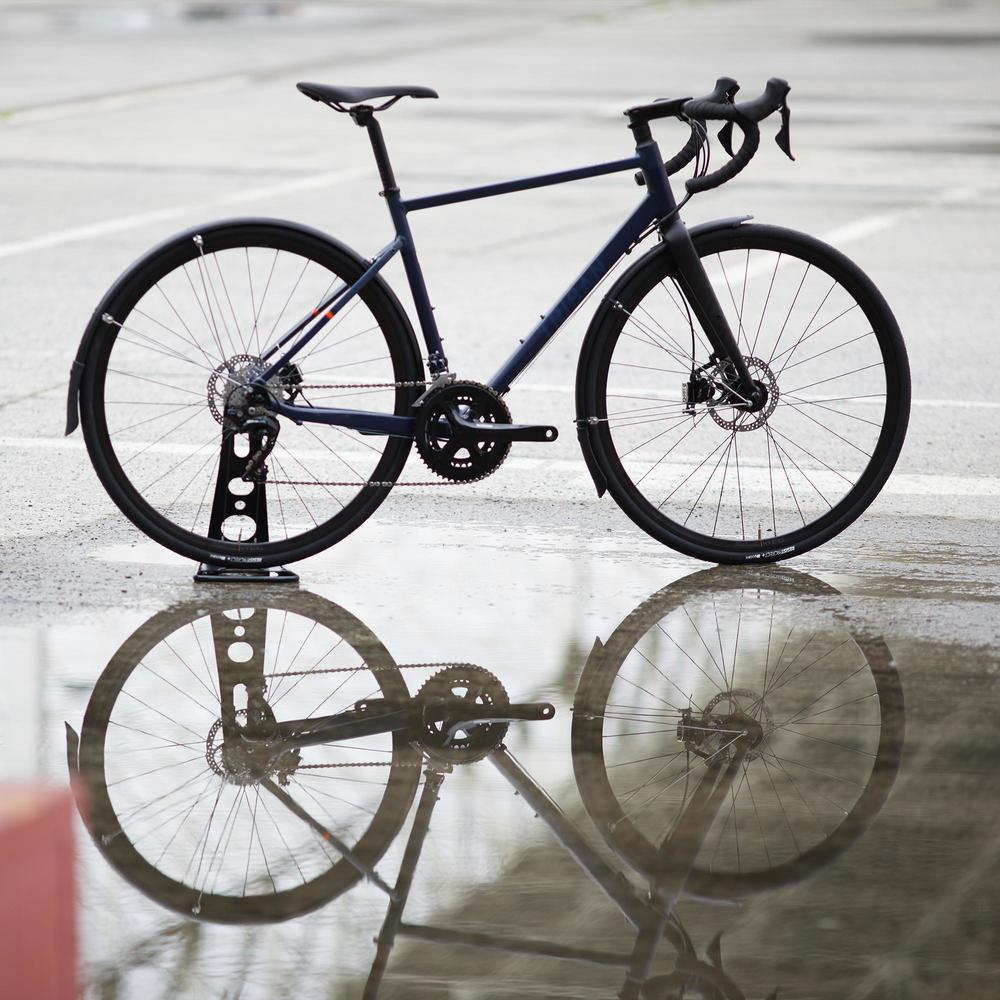RoadBike: (69, 56, 924, 581)
